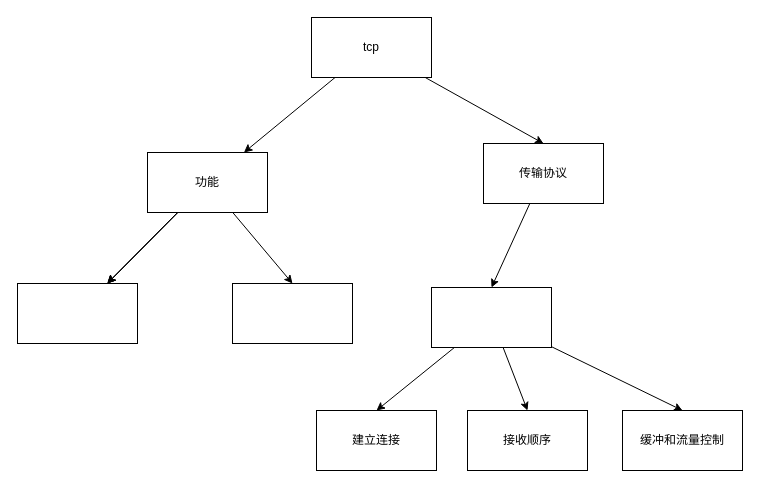
The diagram is 760 pixels wide and 488 high, and some of its shapes have lost their labels. The shapes that lost their labels are listed below. From the top down, each one's box as (x1, y1, x2, y2) in pixels, then its label:
(16, 282, 138, 344): 多路复用、解复用
(232, 282, 352, 344): 拥塞控制
(430, 286, 552, 348): 要素
